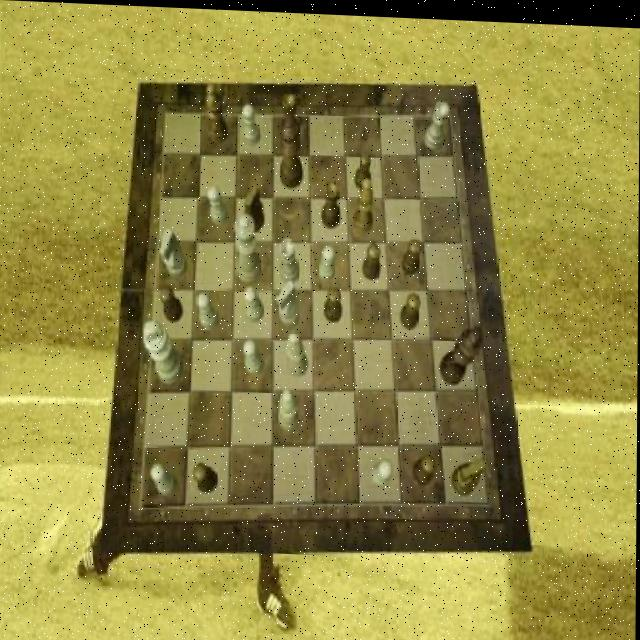bishop: (205, 81, 228, 142), (354, 174, 375, 229)
black-bishop: (441, 321, 484, 383)
black-king: (452, 453, 488, 492), (245, 182, 265, 231)
black-knight: (161, 284, 184, 320), (194, 460, 218, 492), (403, 234, 422, 273), (401, 290, 421, 326), (414, 452, 437, 483), (325, 284, 344, 319), (356, 148, 373, 187), (363, 241, 381, 277)
black-pawn: (280, 111, 305, 186)
black-queen: (281, 90, 300, 141), (322, 178, 341, 227)
black-rook: (288, 328, 310, 375), (279, 385, 300, 428)
white-bishop: (144, 319, 184, 383)
white-king: (160, 229, 189, 277), (277, 278, 301, 325)
white-knight: (196, 290, 219, 328), (152, 462, 177, 496), (208, 184, 229, 223), (242, 102, 260, 144), (244, 284, 264, 321), (244, 338, 264, 373), (371, 456, 394, 485), (319, 242, 336, 279)
white-pawn: (236, 211, 264, 281)
white-queen: (425, 96, 450, 146), (281, 236, 302, 282)
